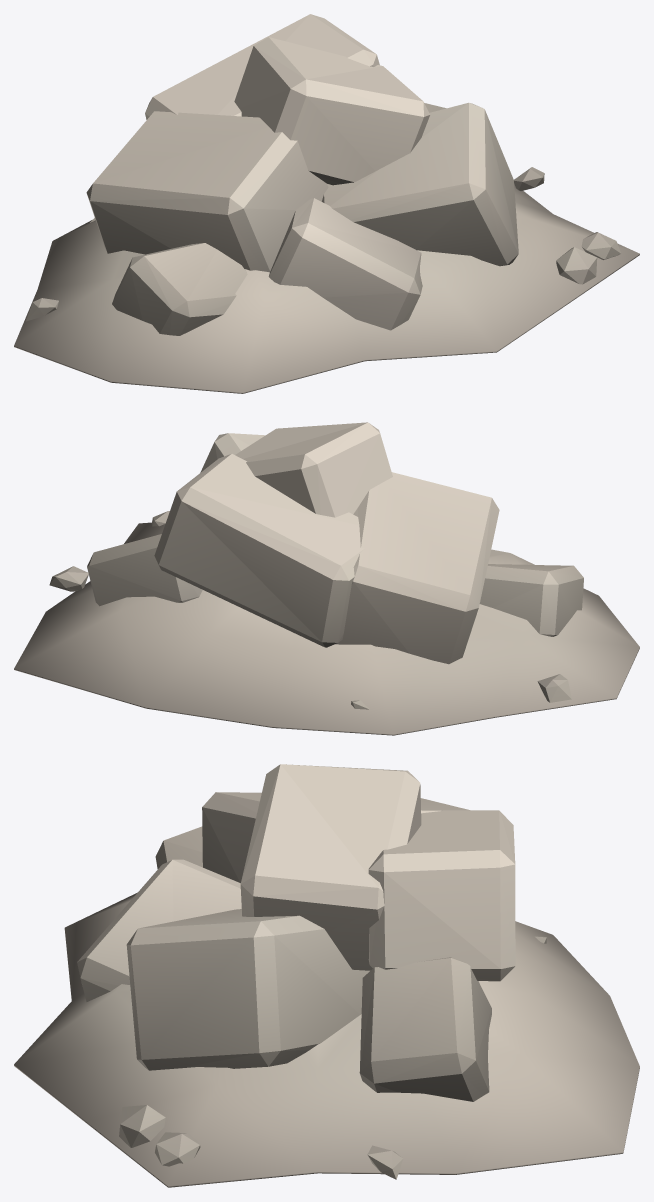
File: SM_VKI_Prop_Rubble.fbx
3 views of the same model, one above another, from view 1: azimuth 30°, elevation 25°; view 2: azimuth 150°, elevation 25°; view 3: azimuth 270°, elevation 25° (orthographic). The views are drawn at different scales.
Visible parts, largest first — view 1: SM_VKI_Prop_Rubble.001; view 2: SM_VKI_Prop_Rubble.001; view 3: SM_VKI_Prop_Rubble.001.
Boxes of the visible parts, x1=… form: SM_VKI_Prop_Rubble.001: x1=14, y1=14, x2=639, y2=393; SM_VKI_Prop_Rubble.001: x1=14, y1=422, x2=639, y2=735; SM_VKI_Prop_Rubble.001: x1=14, y1=764, x2=639, y2=1187.
Bounding box in the file's own units: 1.29 × 0.5025 × 1.03.
